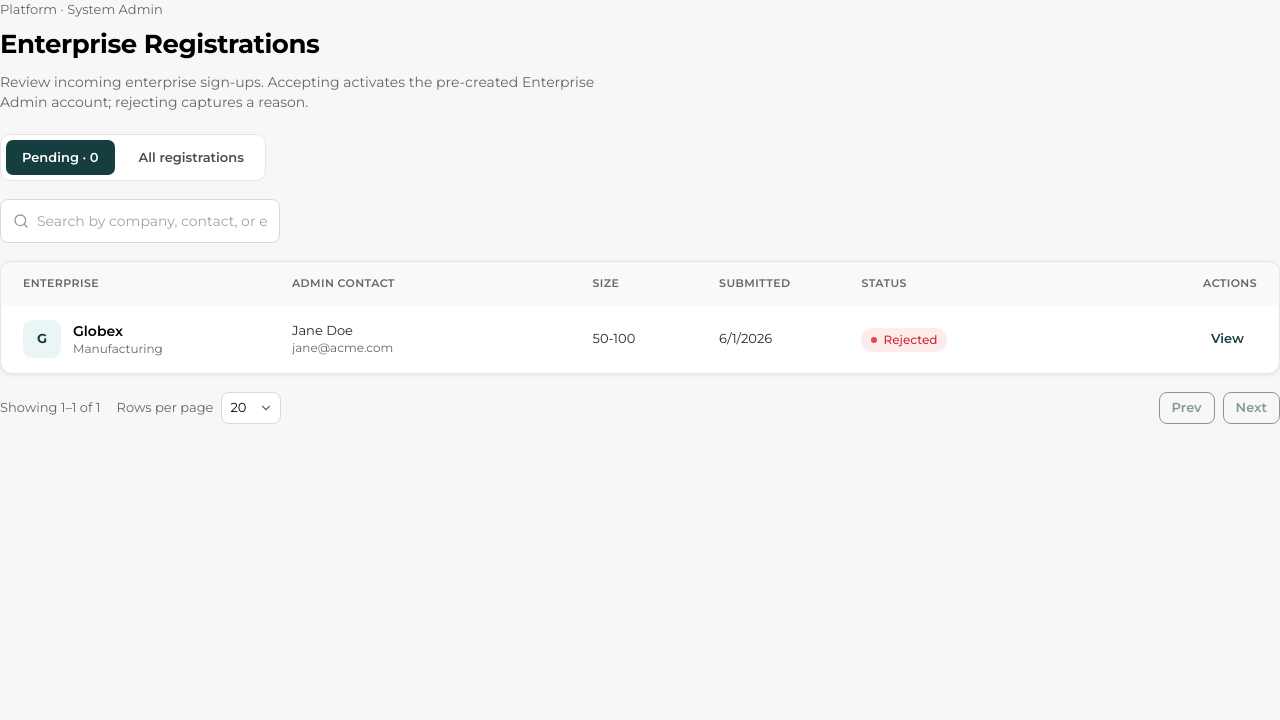
Test: a non-pending row shows only a View action and a Close button in the overlay
The width and height of the screenshot is (1280, 720).
Expected: the text "Globex" is shown, [73, 322, 123, 340]
Step 1. Click the button "View" → (1228, 338), box [1198, 322, 1257, 354]
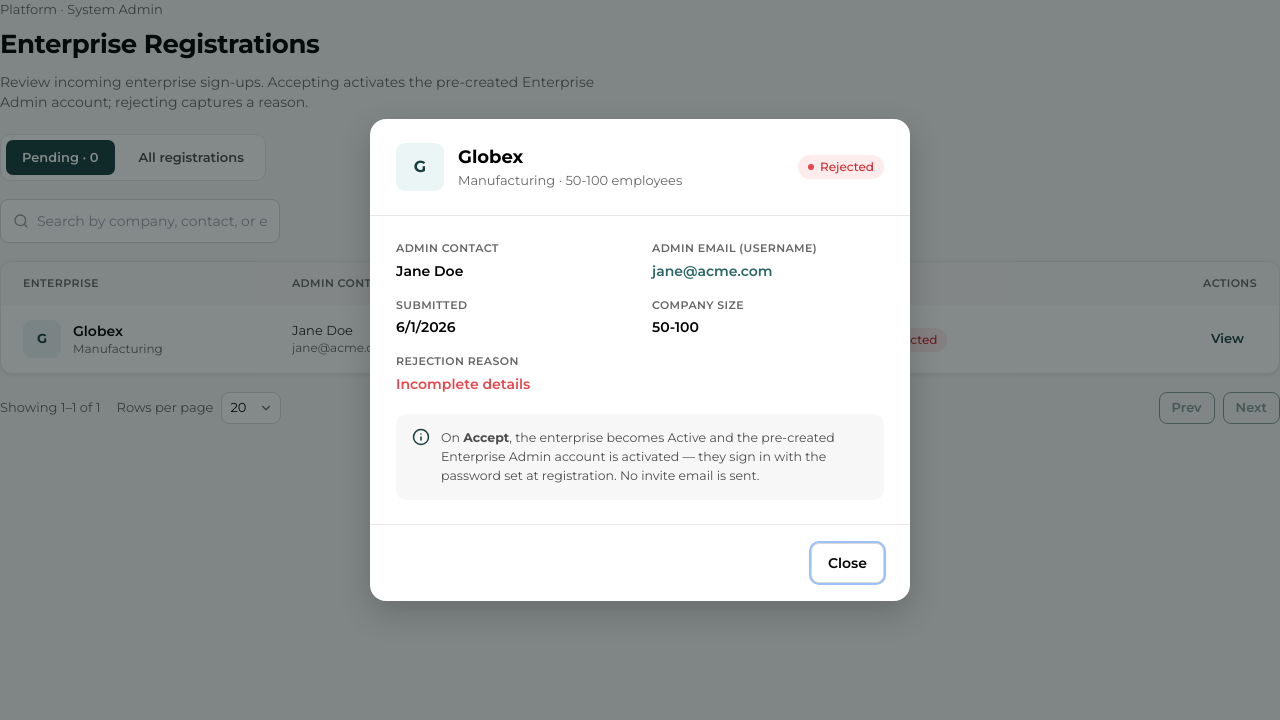
Expected: the text "Incomplete details" is shown, [396, 375, 530, 393]
Expected: the button "Close" is shown, [811, 543, 884, 583]
